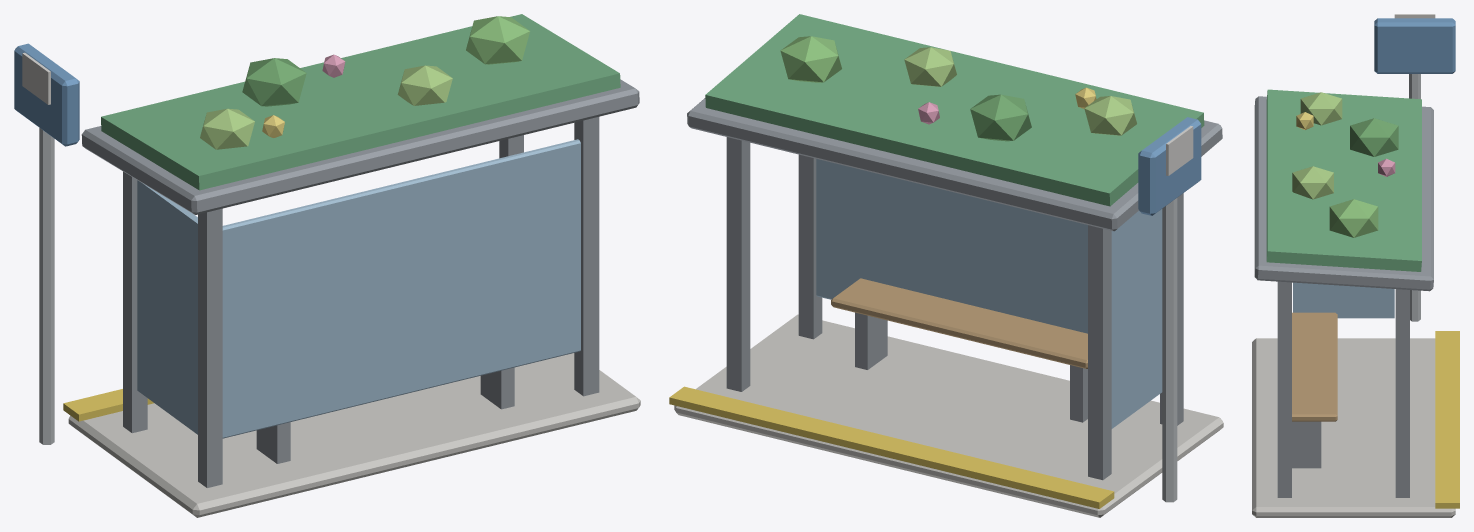
The model's file is mobiliario__ponto_onibus.glb.
3 renders of one model, left to right at view 1: azimuth 30°, elevation 25°; view 2: azimuth 150°, elevation 25°; view 3: azimuth 270°, elevation 25°, orthographic. The views are drawn at different scales.
Parts seen in each view (by area): view 1: mobiliario__ponto_onibus; view 2: mobiliario__ponto_onibus; view 3: mobiliario__ponto_onibus.
Boxes of the visible parts, bbox=[...] form: mobiliario__ponto_onibus: bbox=[14, 14, 640, 517]; mobiliario__ponto_onibus: bbox=[669, 14, 1223, 517]; mobiliario__ponto_onibus: bbox=[1252, 14, 1459, 517].
Size of the model in its own units: 1.13 by 0.845 by 0.51.
